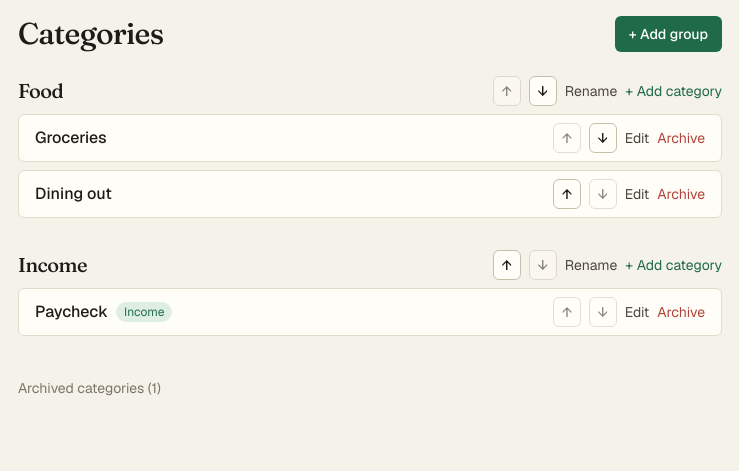
Test case: CategoriesPage › discards a stale reorder response when another mutation lands first
Expected: the element "Food" is shown, left=18, top=76, right=722, bottom=218
Note: Reorder in flight (server snapshots the list with Old Hobby archived)…
Click the button named "Move Groceries down" at (603, 138), box left=589, top=123, right=617, bottom=153
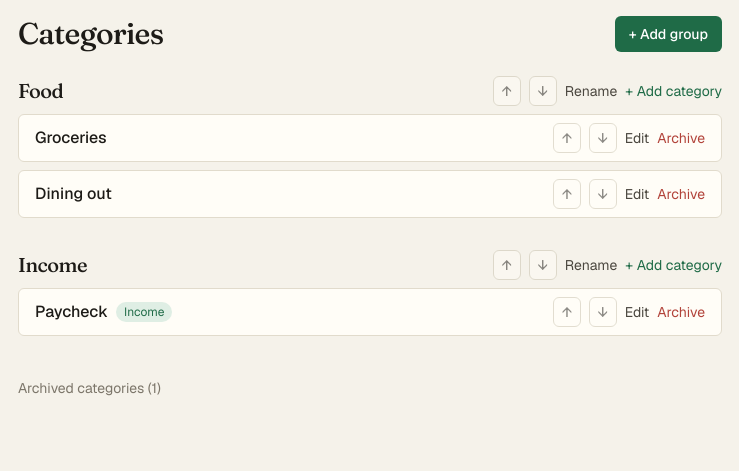
Click the button "Archived categories (1)" at (89, 388), box left=18, top=378, right=161, bottom=398
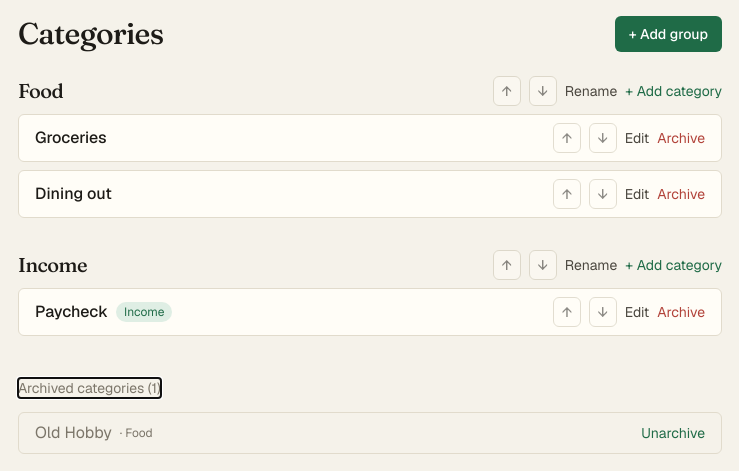
Click the button "Unarchive" at (673, 433), box left=641, top=423, right=705, bottom=443
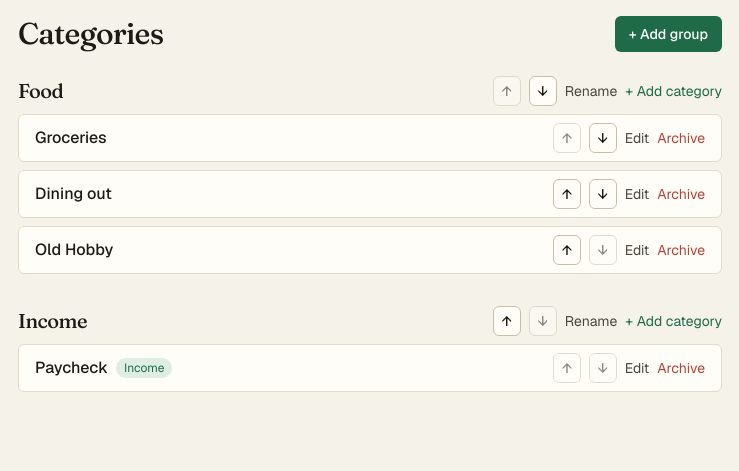
Result: the text "Old Hobby" is shown at left=35, top=238, right=113, bottom=262
Result: the button named "Move Groceries down" is enabled at left=589, top=123, right=617, bottom=153
